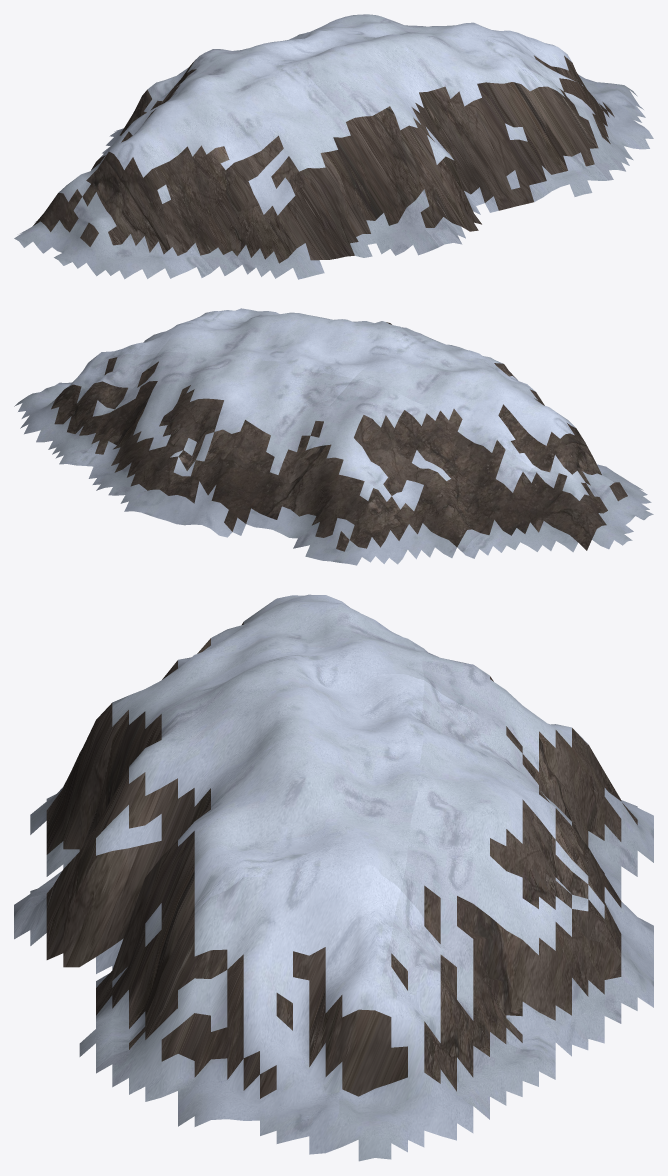
Rendered from border_shelf_c_v5_winter.glb.
The picture shows the model from 3 angles, top to bottom: view 1: azimuth 30°, elevation 25°; view 2: azimuth 150°, elevation 25°; view 3: azimuth 270°, elevation 25°; orthographic projection. The views are drawn at different scales.
Visible parts, largest first — view 1: border_shelf_c; view 2: border_shelf_c; view 3: border_shelf_c.
Part boxes in pixels (x1,y1,x2,y2): border_shelf_c: (14, 14, 653, 279); border_shelf_c: (14, 308, 653, 565); border_shelf_c: (14, 594, 653, 1161).
Size of the model in its own units: 1.06 by 0.2282 by 0.5909.
2 materials, 2 textured.
